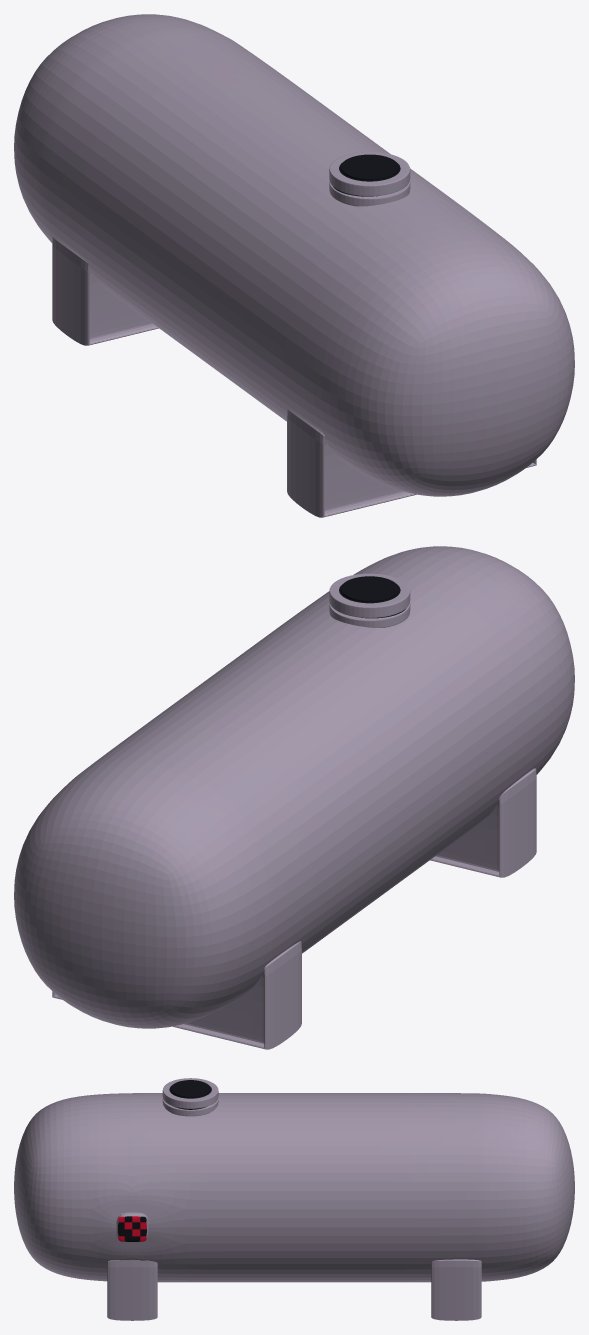
Rendered from gas-tank-mid-poly.fbx.
3 views of the same model, one above another, from view 1: azimuth 30°, elevation 25°; view 2: azimuth 150°, elevation 25°; view 3: azimuth 270°, elevation 25° (orthographic). The views are drawn at different scales.
Parts seen in each view (by area): view 1: Cube; view 2: Cube; view 3: Cube.
Boxes of the visible parts, x1,y1,x2,y2 form: Cube: [14, 14, 574, 517]; Cube: [14, 546, 574, 1049]; Cube: [14, 1078, 574, 1320].
Bounding box in the file's own units: 330 × 370 × 961.
Materials: 1 (1 with a texture image).
